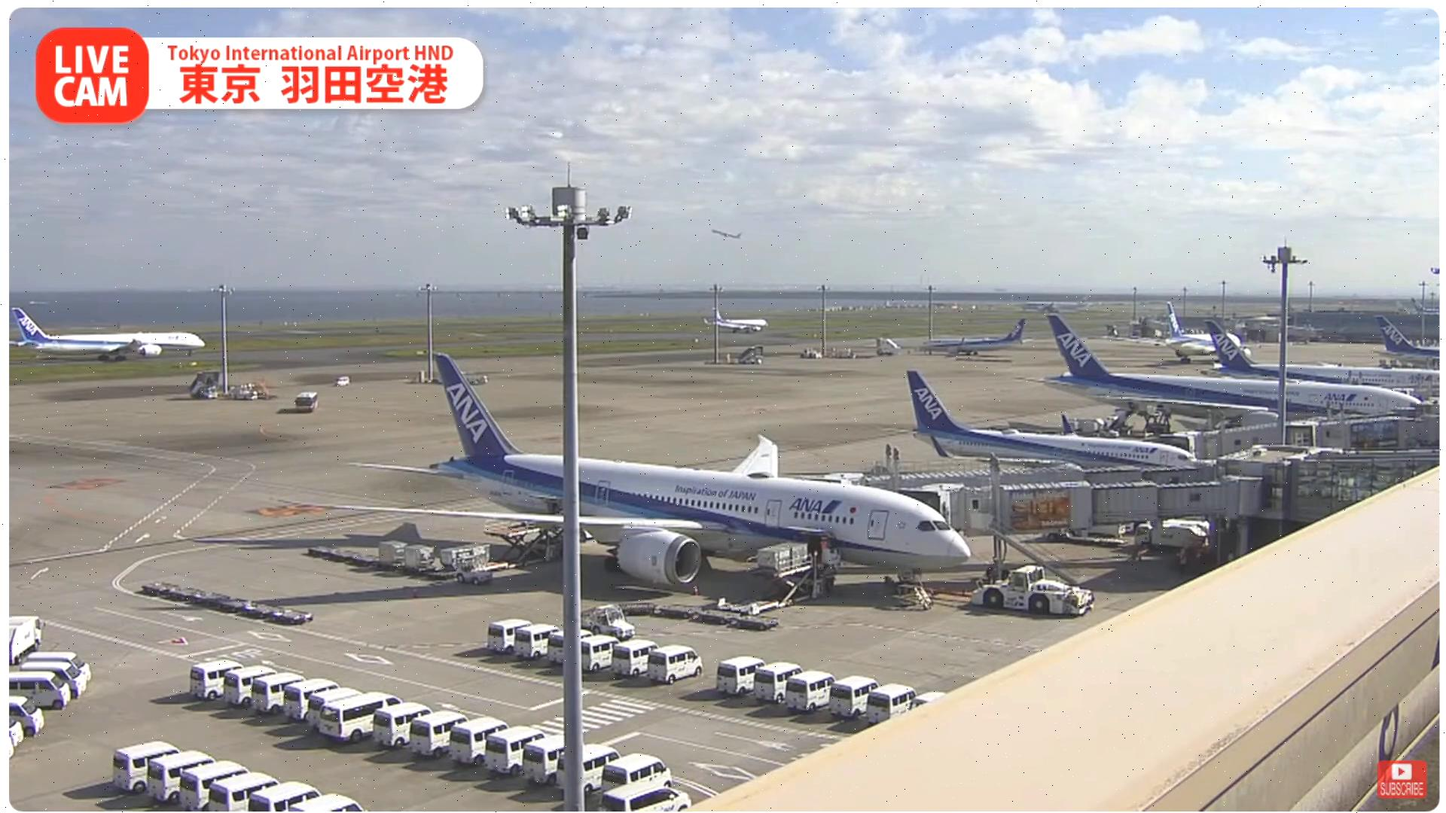APS: (969, 564, 1106, 619)
Aerobridge: (899, 476, 1264, 540), (843, 457, 1217, 496)
Airplane: (330, 354, 973, 599)
Dolly: (137, 576, 315, 628), (308, 539, 456, 583), (619, 597, 783, 633)
JCPL: (712, 552, 839, 616), (450, 522, 565, 575)
Tractor: (584, 597, 639, 638), (454, 553, 493, 585)
Window: (1290, 456, 1440, 523)
